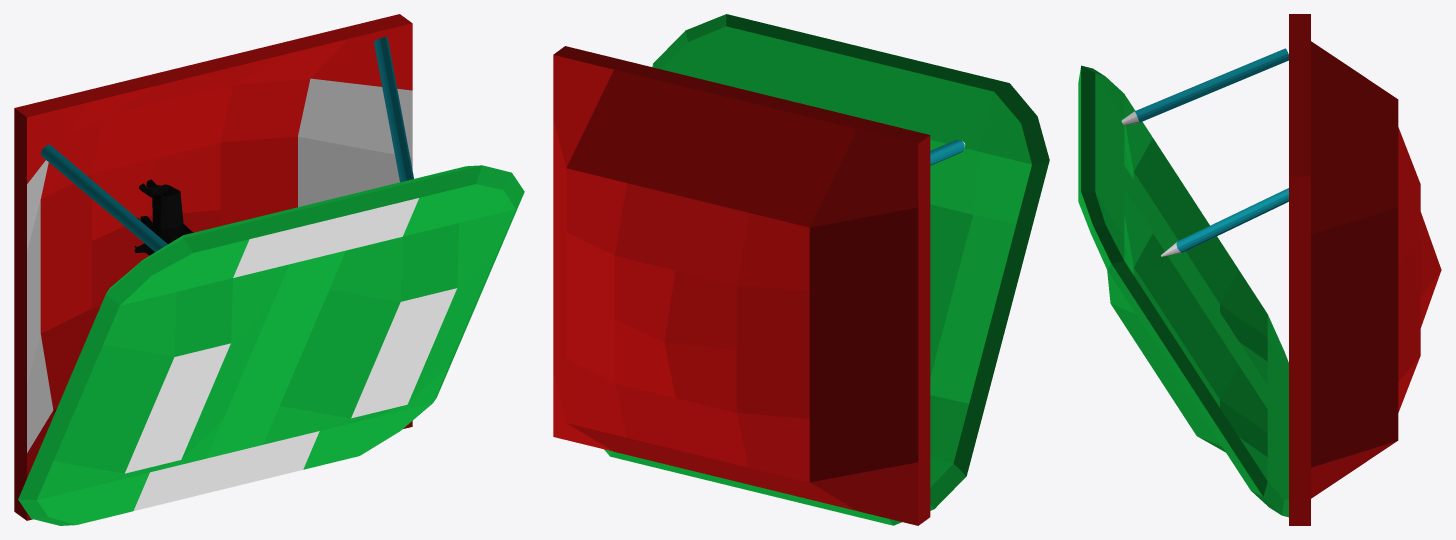
The model's file is HoundPit1d.obj.
3 views of the same model, side by side, from view 1: azimuth 30°, elevation 25°; view 2: azimuth 150°, elevation 25°; view 3: azimuth 270°, elevation 25° (orthographic). The views are drawn at different scales.
Visible parts, largest first — view 1: Cube.001, Cube, Cube.002, Cube.003, Cube.004; view 2: Cube, Cube.001; view 3: Cube, Cube.001, Cube.002, Cube.003.
Boxes of the visible parts, <box> form: Cube.001: <box>18,165,524,525</box>; Cube: <box>14,14,412,520</box>; Cube.002: <box>41,144,167,251</box>; Cube.003: <box>374,37,413,182</box>; Cube.004: <box>134,179,193,255</box>; Cube: <box>553,46,930,525</box>; Cube.001: <box>604,14,1049,525</box>; Cube: <box>1289,14,1441,525</box>; Cube.001: <box>1078,65,1288,517</box>; Cube.002: <box>1121,48,1288,125</box>; Cube.003: <box>1161,188,1288,256</box>.
Size of the model in its own units: 1.68 by 1.61 by 1.46.
